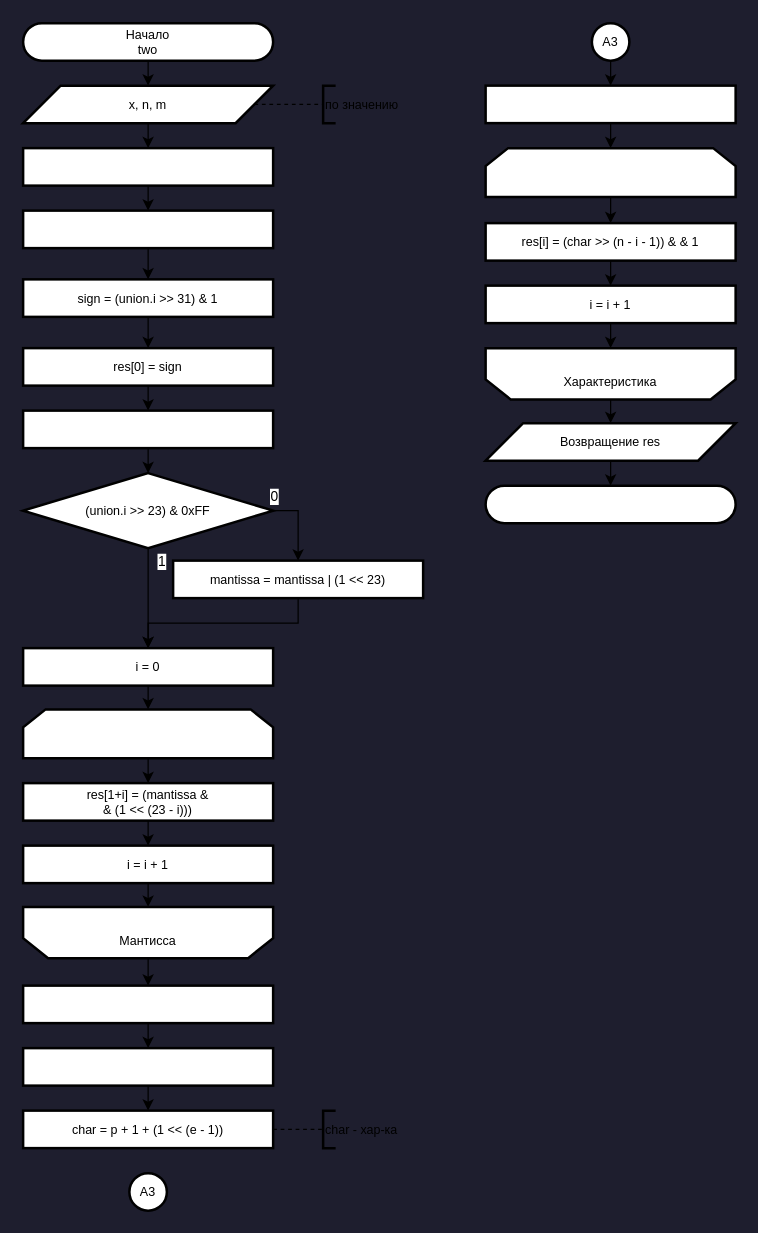
The diagram is 758 pixels wide and 1233 high, and some of its shapes have lost their labels. Each missing label, with the centre of its shape:
"e = n - m - 1" goes at (x=147, y=1004).
"i = m" goes at (x=610, y=104).
"mantissa = union.i & 0x7FFFFF" goes at (x=147, y=429).
"p = ((union.i >> 23) & 0xFF) - 127" goes at (x=147, y=1066).
"union(f; i)" goes at (x=147, y=166).
"union.f = x" goes at (x=147, y=229).
"Конец two" goes at (x=610, y=504).
"Мантисса i >= m" goes at (x=147, y=733).
"Характеристика i >= n" goes at (x=610, y=172).
